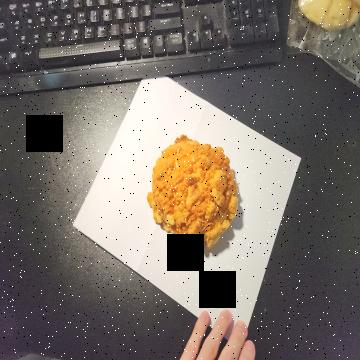soboru_bread: (145, 136, 241, 263)
